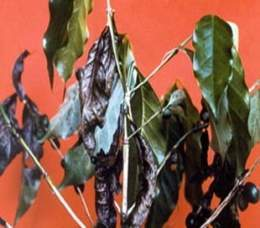mal de hilachas: (79, 26, 180, 220)
